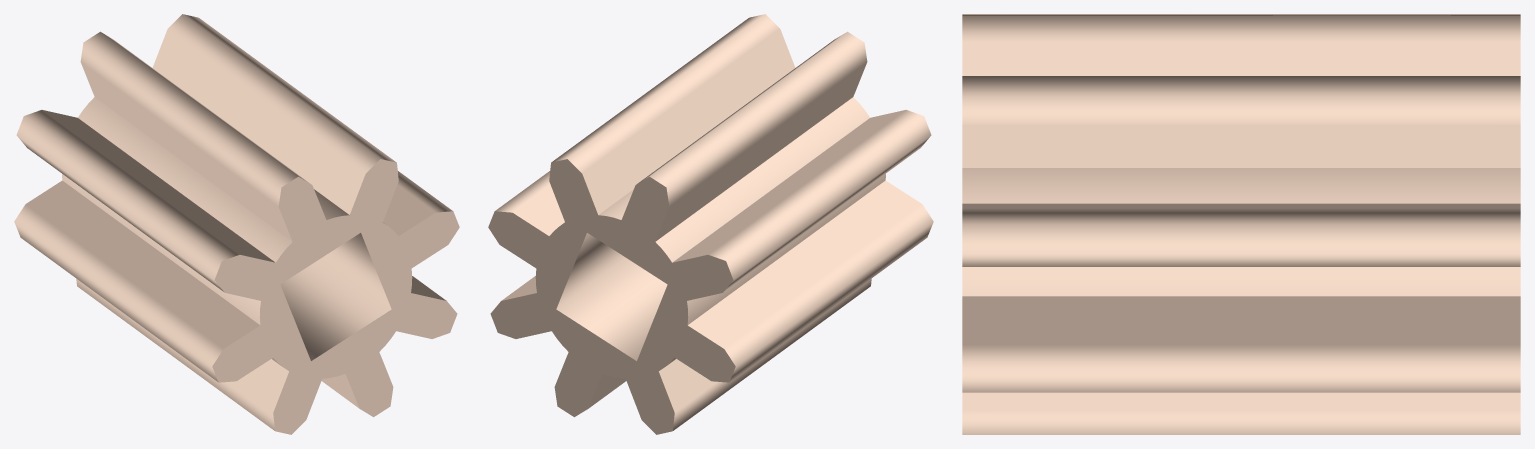
File: Pignon_Grande moyenne.obj
3 renders of one model, left to right at view 1: azimuth 30°, elevation 25°; view 2: azimuth 150°, elevation 25°; view 3: azimuth 270°, elevation 25°, orthographic. The views are drawn at different scales.
Visible parts, largest first — view 1: Face_2, Face_13, Face_6, Face_3, Face_8, Face_35, Face_7, Face_12, Face_10, Face_9, Face_11, Face_28 (+5 smaller); view 2: Face_1, Face_13, Face_6, Face_3, Face_8, Face_35, Face_7, Face_12, Face_10, Face_9, Face_11, Face_28 (+5 smaller); view 3: Face_16, Face_12, Face_20, Face_21, Face_19, Face_18, Face_15, Face_22, Face_8, Face_24, Face_25, Face_17.
Part boxes in pixels (left/top/right/bottom): Face_2: left=212, top=159, right=459, bottom=434; Face_13: left=152, top=29, right=365, bottom=214; Face_6: left=26, top=180, right=259, bottom=348; Face_3: left=16, top=110, right=239, bottom=291; Face_8: left=80, top=31, right=310, bottom=206; Face_35: left=280, top=233, right=391, bottom=360; Face_7: left=14, top=204, right=223, bottom=382; Face_12: left=168, top=14, right=396, bottom=173; Face_10: left=78, top=97, right=292, bottom=262; Face_9: left=80, top=62, right=292, bottom=241; Face_11: left=42, top=110, right=274, bottom=262; Face_28: left=76, top=279, right=274, bottom=430; Face_1: left=488, top=159, right=735, bottom=434; Face_13: left=582, top=29, right=795, bottom=214; Face_6: left=688, top=180, right=921, bottom=348; Face_3: left=708, top=110, right=931, bottom=291; Face_8: left=637, top=31, right=867, bottom=206; Face_35: left=556, top=233, right=667, bottom=360; Face_7: left=724, top=204, right=933, bottom=382; Face_12: left=551, top=14, right=779, bottom=173; Face_10: left=655, top=97, right=869, bottom=262; Face_9: left=655, top=62, right=867, bottom=241; Face_11: left=673, top=110, right=905, bottom=262; Face_28: left=673, top=279, right=871, bottom=430; Face_16: left=962, top=208, right=1520, bottom=266; Face_12: left=962, top=76, right=1520, bottom=125; Face_20: left=962, top=344, right=1520, bottom=392; Face_21: left=962, top=296, right=1520, bottom=344; Face_19: left=962, top=126, right=1520, bottom=167; Face_18: left=962, top=168, right=1520, bottom=203; Face_15: left=962, top=42, right=1520, bottom=75; Face_22: left=962, top=267, right=1520, bottom=296; Face_8: left=962, top=14, right=1520, bottom=42; Face_24: left=962, top=410, right=1520, bottom=434; Face_25: left=962, top=392, right=1520, bottom=410; Face_17: left=962, top=203, right=1520, bottom=208.
Bounding box in the file's own units: 0.0065 × 0.0065 × 0.009.
